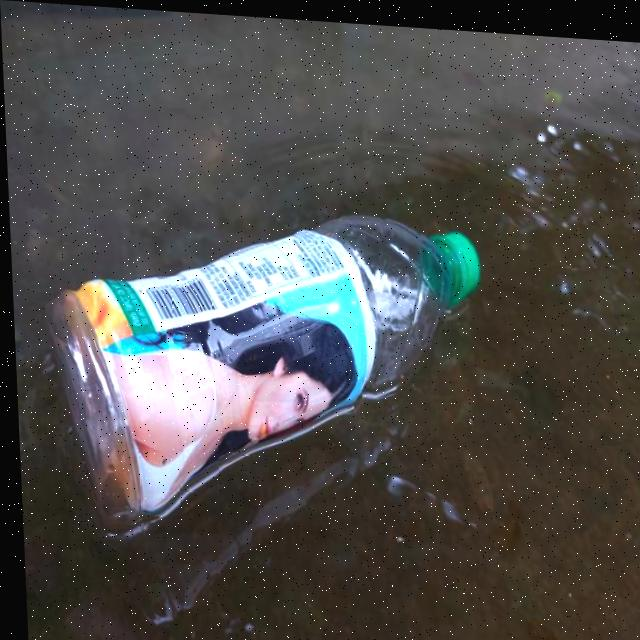waterbottle: (37, 190, 524, 563)
